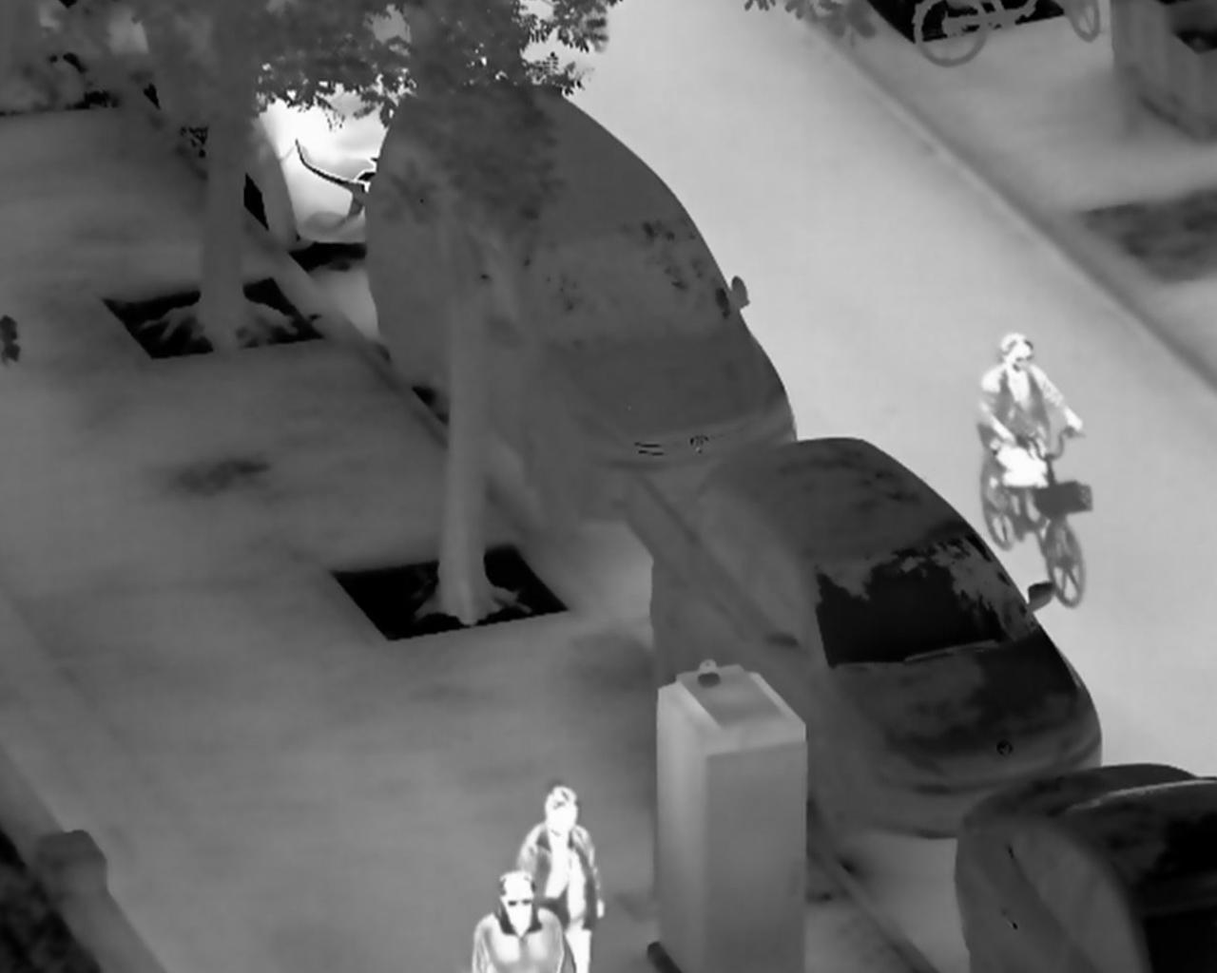person: (972, 329, 1090, 512), (513, 783, 608, 973), (463, 866, 569, 973)
